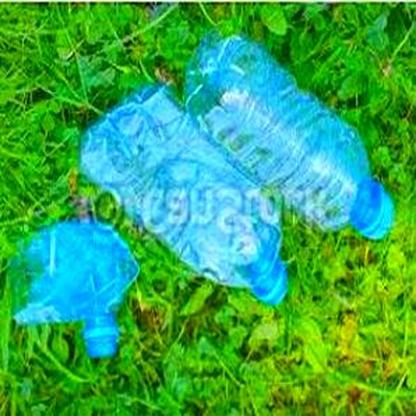plastic bottle: (80, 86, 291, 305), (182, 31, 393, 240), (9, 221, 140, 356)
